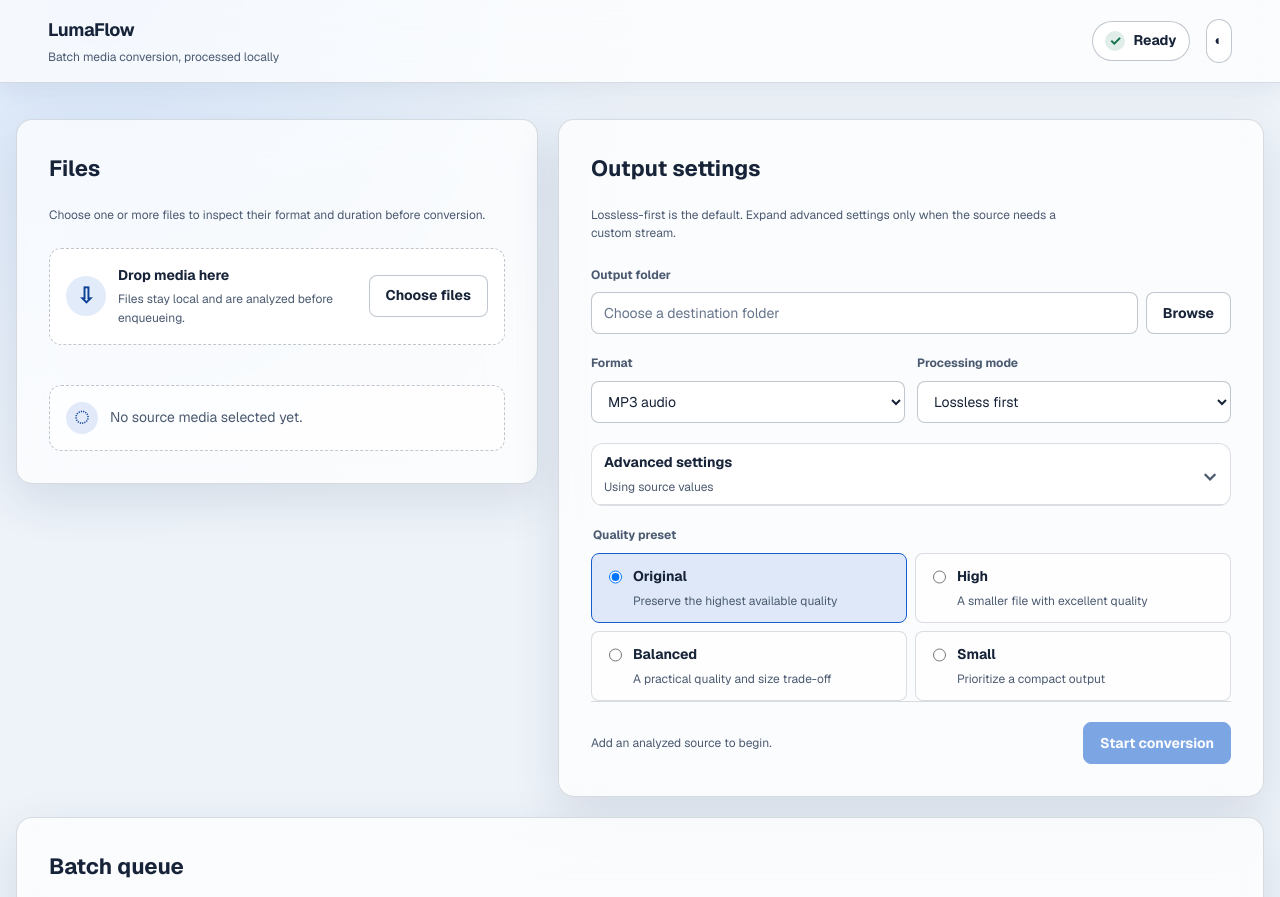
App › keeps a newly browsed folder when saved-folder validation resolves later
Click the button "Browse".
click(1188, 313)  # box [1146, 292, 1231, 334]
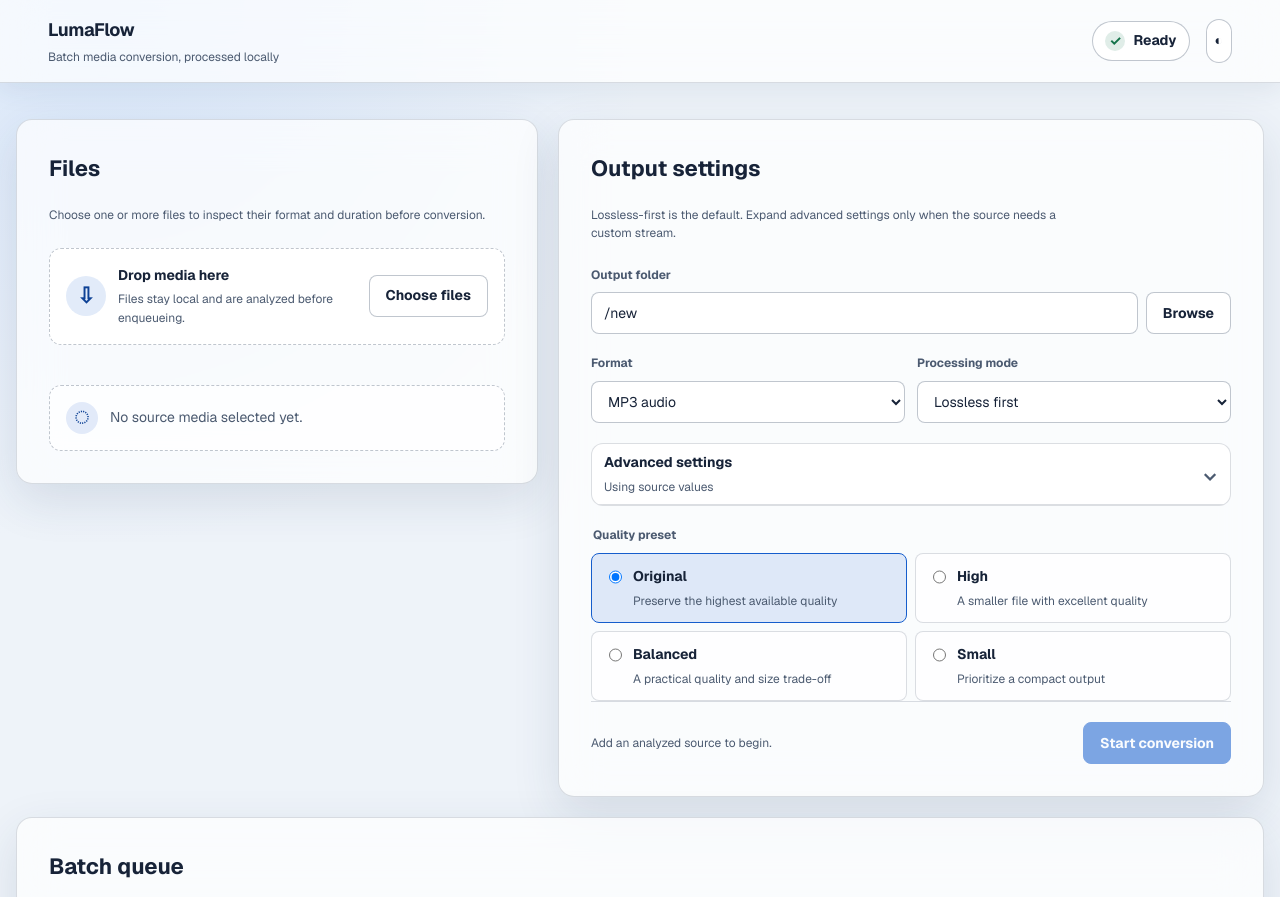
Now the field with placeholder "Choose a destination folder" holds "/new", box [591, 292, 1138, 334]
